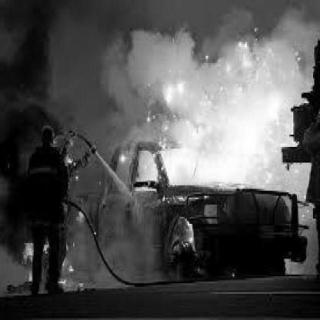Smoke: (147, 10, 309, 140)
